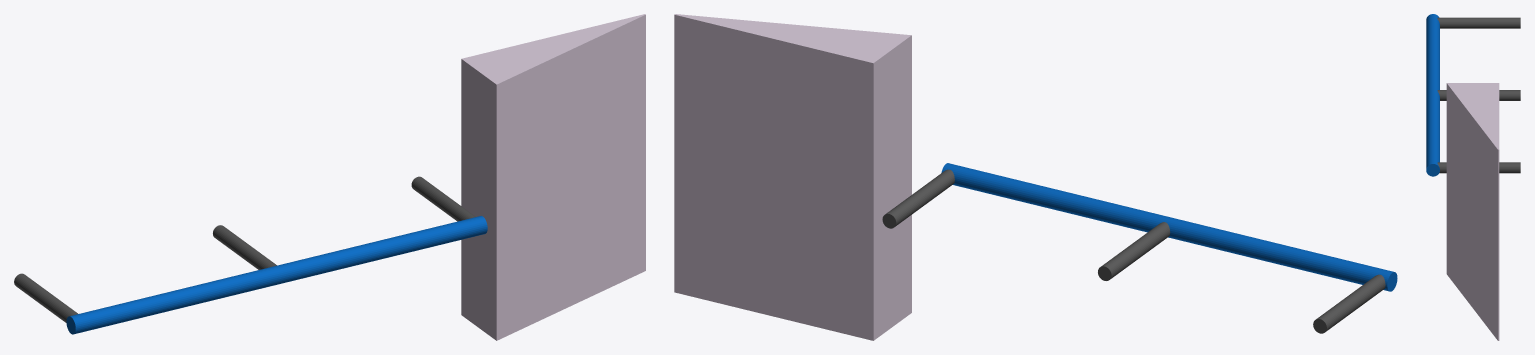
File: short_rail.obj
The picture shows the model from 3 angles, left to right: view 1: azimuth 30°, elevation 25°; view 2: azimuth 150°, elevation 25°; view 3: azimuth 270°, elevation 25°; orthographic projection. The views are drawn at different scales.
Visible parts, largest first — view 1: Cube, Cylinder, Cylinder.001; view 2: Cube, Cylinder, Cylinder.001; view 3: Cube, Cylinder, Cylinder.001.
Boxes of the visible parts, box(x1,y1,x2,y2) form: Cube: box(461, 14, 645, 340); Cylinder: box(66, 216, 487, 334); Cylinder.001: box(14, 176, 475, 322); Cube: box(674, 14, 911, 340); Cylinder: box(941, 163, 1397, 291); Cylinder.001: box(882, 169, 1385, 333); Cube: box(1446, 83, 1499, 340); Cylinder: box(1426, 14, 1439, 176); Cylinder.001: box(1437, 17, 1520, 173).
Bounding box in the file's own units: 202 × 80 × 35.88.
